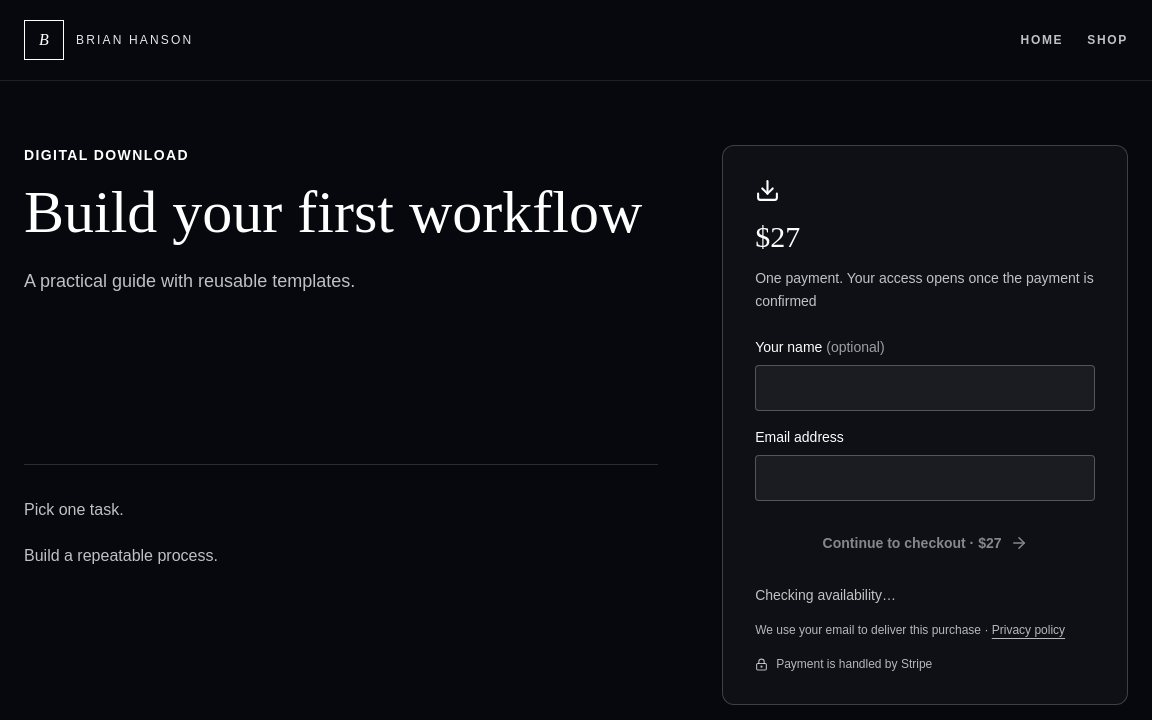
Test: offer visitor journey › lets a buyer retry a failed availability read without losing details or starting checkout
The image size is (1152, 720).
Later steps or results of the test are not shown.
In the field labelled "Your name (optional)": point(925, 388) top-left (755, 364), bottom-right (1095, 410), type "Buyer Name"
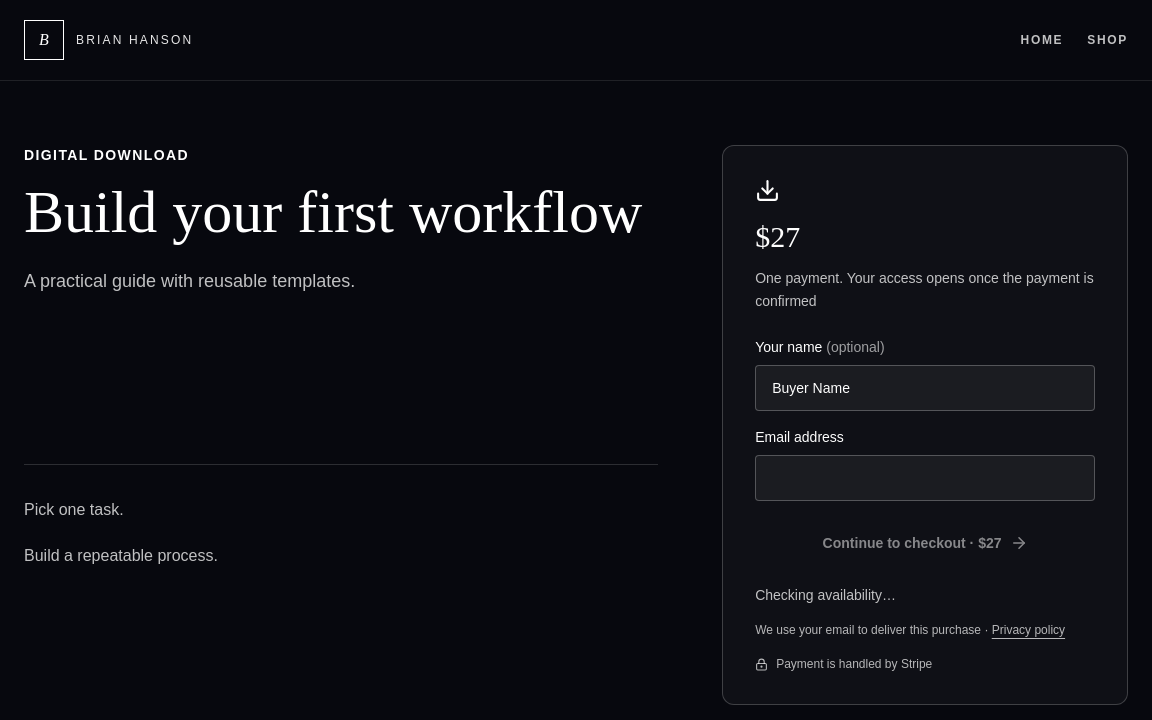
In the field labelled "Email address": point(925, 478) top-left (755, 454), bottom-right (1095, 500), type "buyer@example.com"
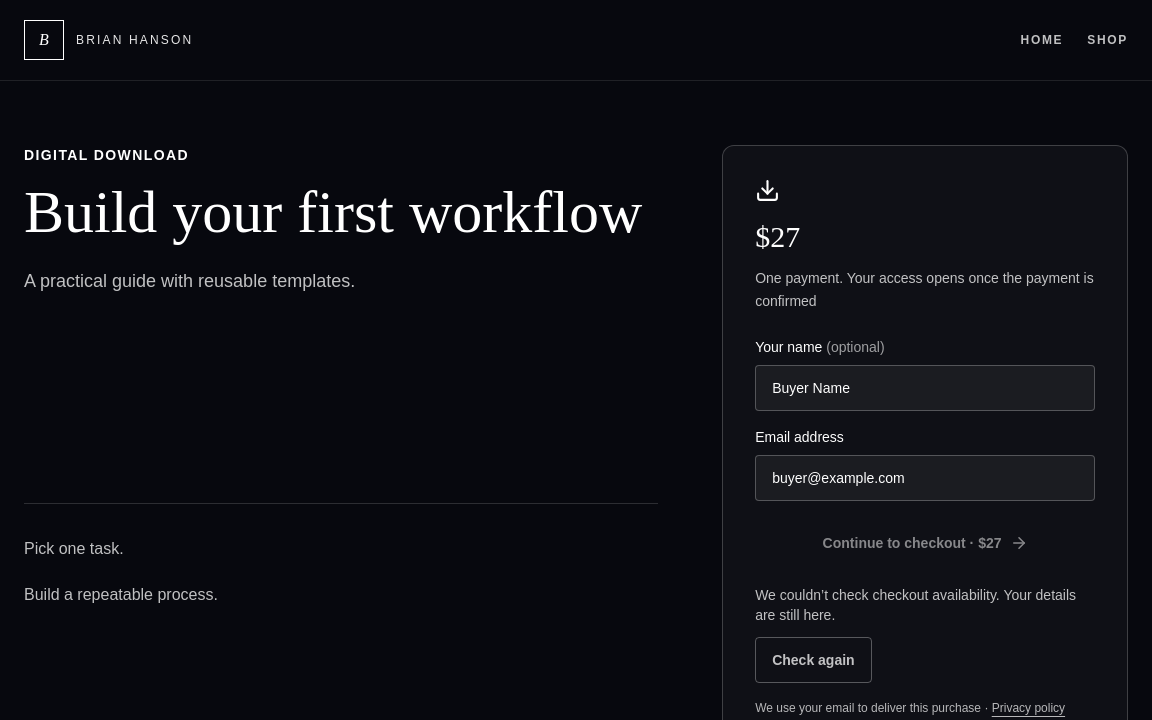
Check: the text "We couldn’t check checkout availability. Your details are still here." is shown, box top-left (755, 584), bottom-right (1095, 624)
